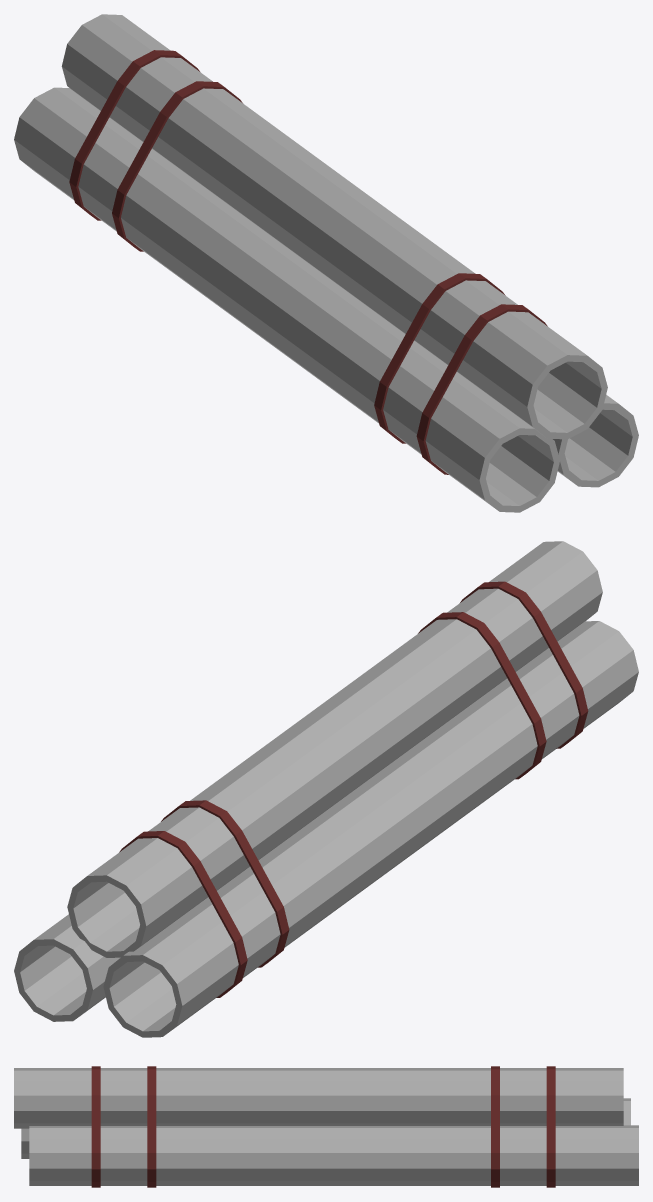
The model's file is SM_pipesStock_01.gltf.
3 renders of one model, top to bottom at view 1: azimuth 30°, elevation 25°; view 2: azimuth 150°, elevation 25°; view 3: azimuth 270°, elevation 25°, orthographic. The views are drawn at different scales.
Visible parts, largest first — view 1: SM_pipesStock_01; view 2: SM_pipesStock_01; view 3: SM_pipesStock_01.
Part boxes in pixels (x1,y1,x2,y2): SM_pipesStock_01: (14,14,638,512); SM_pipesStock_01: (14,541,638,1037); SM_pipesStock_01: (14,1066,638,1187).
Bounding box in the file's own units: 0.8426 × 0.7382 × 4.1.
1 material, 1 textured.
